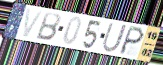0: (61, 16, 83, 47)
5: (81, 18, 104, 50)
B: (34, 11, 62, 42)
P: (117, 25, 145, 57)
U: (100, 21, 129, 54)
V: (22, 7, 45, 39)
